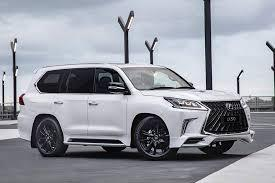lexus: (223, 102, 234, 110)
